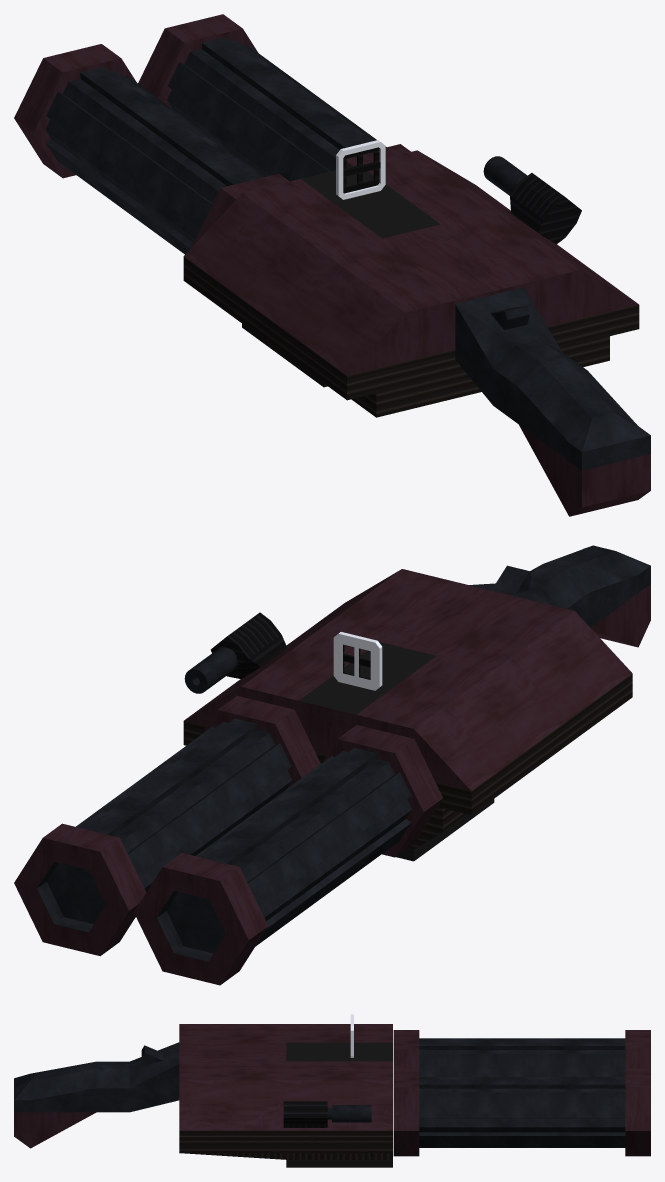
File: shotty1.glb
3 renders of one model, top to bottom at view 1: azimuth 30°, elevation 25°; view 2: azimuth 150°, elevation 25°; view 3: azimuth 270°, elevation 25°, orthographic. The views are drawn at different scales.
Parts seen in each view (by area): view 1: largeBlaster_back, clipBarrel_large (×2), stock_solid, mediumBlaster_barrelSilencer, panel_double; view 2: clipBarrel_large (×2), largeBlaster_back, stock_solid, mediumBlaster_barrelSilencer, panel_double; view 3: clipBarrel_large (×2), largeBlaster_back, stock_solid, mediumBlaster_barrelSilencer.
Part boxes in pixels (x1=…): largeBlaster_back: x1=183, y1=150, x2=639, y2=417; clipBarrel_large (×2): x1=14, y1=14, x2=410, y2=254; stock_solid: x1=455, y1=287, x2=650, y2=516; mediumBlaster_barrelSilencer: x1=483, y1=156, x2=581, y2=244; panel_double: x1=336, y1=140, x2=385, y2=199; clipBarrel_large (×2): x1=14, y1=695, x2=442, y2=985; largeBlaster_back: x1=183, y1=569, x2=632, y2=861; stock_solid: x1=469, y1=545, x2=650, y2=647; mediumBlaster_barrelSilencer: x1=184, y1=612, x2=286, y2=693; panel_double: x1=333, y1=632, x2=382, y2=690; clipBarrel_large (×2): x1=393, y1=1030, x2=650, y2=1156; largeBlaster_back: x1=179, y1=1024, x2=392, y2=1167; stock_solid: x1=14, y1=1042, x2=179, y2=1148; mediumBlaster_barrelSilencer: x1=283, y1=1101, x2=371, y2=1127.
Bounding box in the file's own units: 2.69 × 1.5 × 7.23.
Materials: 16 (14 with a texture image).
